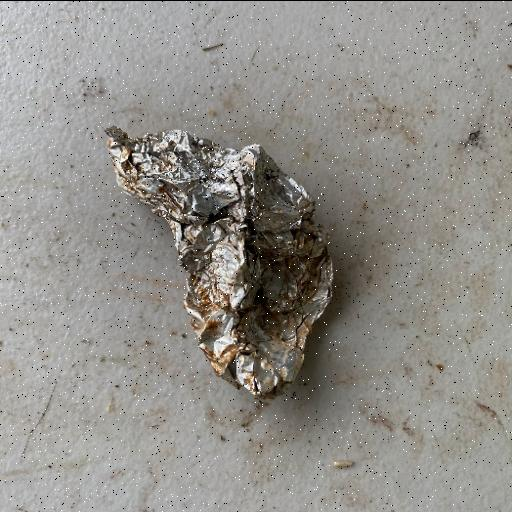Metal: (102, 124, 336, 402)
